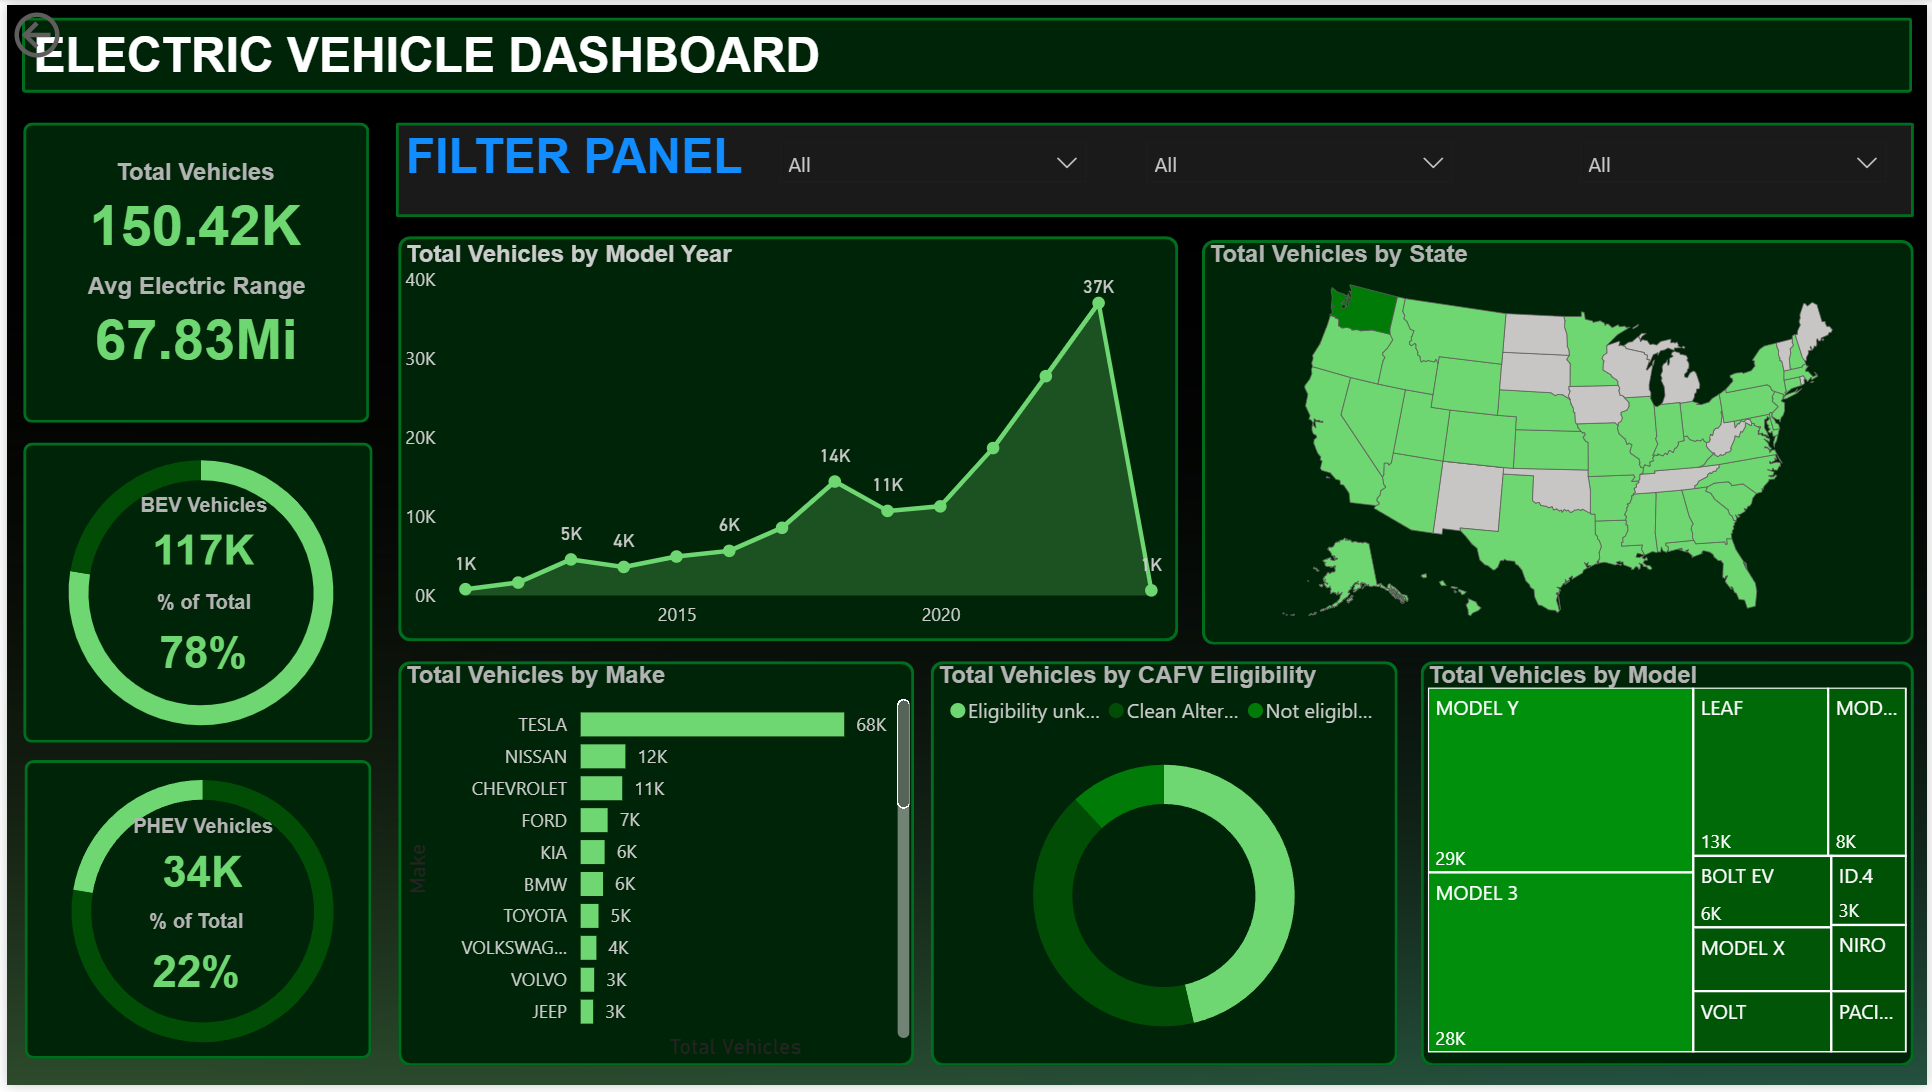

The page's visual inventory and layout, read from the dashboard file:
{"tool":"powerbi","page":{"name":"Page 1","canvas":[1280,720],"ordinal":0},"visuals":[{"type":"shape","box":[9.9,8.2,1260.1,50.2],"z":0},{"type":"textbox","box":[9.9,10.7,539.9,46.1],"z":1000},{"type":"shape","box":[10.9,78.4,230.7,200.3],"z":2000},{"type":"cardVisual","title":"Total Vehicles","fields":{"Data":["Electric_Vehicle_Population_Data.Total Vehicles"]},"box":[19.6,102.3,211.2,76.2],"z":3000},{"type":"actionButton","box":[0,0,100,40],"z":4000},{"type":"cardVisual","title":"Avg Electric Range","fields":{"Data":["Electric_Vehicle_Population_Data.Avg Range"]},"box":[23.9,178.5,204.6,76.2],"z":5000},{"type":"shape","box":[10.9,291.7,232.9,200.3],"z":6000},{"type":"shape","box":[11.6,503.3,231.3,199.3],"z":7000},{"type":"donutChart","fields":{"Category":["Electric_Vehicle_Population_Data.Electric Vehicle Type"],"Y":["Electric_Vehicle_Population_Data.Total Vehicles"]},"box":[0,276.5,259,230.7],"z":8000},{"type":"cardVisual","title":"BEV Vehicles","fields":{"Data":["Electric_Vehicle_Population_Data.BEV Vehicles"]},"box":[64.5,326.1,134.3,64.5],"z":9000},{"type":"cardVisual","title":"% of Total","fields":{"Data":["Electric_Vehicle_Population_Data.% of BEV"]},"box":[45.3,390.6,172.6,71.5],"z":10000},{"type":"donutChart","fields":{"Category":["Electric_Vehicle_Population_Data.Electric Vehicle Type"],"Y":["Electric_Vehicle_Population_Data.Total Vehicles"]},"box":[0,489.8,261.2,228.6],"z":11000},{"type":"cardVisual","title":"PHEV Vehicles","fields":{"Data":["Electric_Vehicle_Population_Data.PHEV Vehicles"]},"box":[63.1,539.9,135,65.3],"z":12000},{"type":"cardVisual","title":"% of Total","fields":{"Data":["Electric_Vehicle_Population_Data.% of PHEV"]},"box":[39.2,603,174.1,71.8],"z":13000},{"type":"shape","box":[259,78.4,1012.2,63.1],"z":14000},{"type":"shape","box":[261.2,154.6,520,270],"z":15000},{"type":"areaChart","fields":{"Category":["Electric_Vehicle_Population_Data.Model Year"],"Y":["Electric_Vehicle_Population_Data.Total Vehicles"]},"box":[261.2,156.7,520.3,267.8],"z":16000},{"type":"shape","box":[796.7,156.7,474.6,269.9],"z":17000},{"type":"shapeMap","fields":{"Category":["Electric_Vehicle_Population_Data.State"],"Value":["Electric_Vehicle_Population_Data.Total Vehicles"]},"box":[796.7,156.7,474.6,267.8],"z":18000},{"type":"shape","box":[261.2,437.6,343.9,269.9],"z":19000},{"type":"barChart","fields":{"Y":["Electric_Vehicle_Population_Data.Total Vehicles"],"Category":["Electric_Vehicle_Population_Data.Make"]},"box":[261.2,437.6,346.1,269.9],"z":20000},{"type":"shape","box":[616.1,437.6,311.3,269.9],"z":21000},{"type":"donutChart","title":"Total Vehicles by CAFV Eligibility","fields":{"Y":["Electric_Vehicle_Population_Data.Total Vehicles"],"Category":["Electric_Vehicle_Population_Data.Clean Alternative Fuel Vehicle (CAFV) Eligibility"]},"box":[616.1,437.6,311.3,269.9],"z":22000},{"type":"shape","box":[942.6,437.6,328.7,269.9],"z":23000},{"type":"treemap","fields":{"Group":["Electric_Vehicle_Population_Data.Model"],"Values":["Electric_Vehicle_Population_Data.Total Vehicles"]},"box":[942.6,437.6,328.7,265.6],"z":24000},{"type":"textbox","box":[261.2,78.4,243.8,63.1],"z":25000},{"type":"slicer","fields":{"Values":["Electric_Vehicle_Population_Data.City"]},"box":[505,80.5,224.2,61],"z":26000},{"type":"slicer","fields":{"Values":["Electric_Vehicle_Population_Data.Electric Utility"]},"box":[748.8,80.5,224.2,61],"z":27000},{"type":"slicer","fields":{"Values":["Electric_Vehicle_Population_Data.Electric Vehicle Type"]},"box":[1038.4,80.5,224.2,61],"z":27001}]}

Visuals, with their boxes in screenshot pixels (x1, y1, x2, y2), scaled from the page's 1280x720 canvas onto the 1932x1092 screenshot:
shape: box=[15, 12, 1917, 89]
textbox: box=[15, 16, 830, 86]
shape: box=[16, 119, 365, 423]
"Total Vehicles" cardVisual: box=[30, 155, 348, 271]
actionButton: box=[0, 0, 151, 61]
"Avg Electric Range" cardVisual: box=[36, 271, 345, 386]
shape: box=[16, 442, 368, 746]
shape: box=[18, 763, 367, 1066]
donutChart - Electric_Vehicle_Population_Data.Electric Vehicle Type x Electric_Vehicle_Population_Data.Total Vehicles: box=[0, 419, 391, 769]
"BEV Vehicles" cardVisual: box=[97, 495, 300, 592]
"% of Total" cardVisual: box=[68, 592, 329, 701]
donutChart - Electric_Vehicle_Population_Data.Electric Vehicle Type x Electric_Vehicle_Population_Data.Total Vehicles: box=[0, 743, 394, 1090]
"PHEV Vehicles" cardVisual: box=[95, 819, 299, 918]
"% of Total" cardVisual: box=[59, 915, 322, 1023]
shape: box=[391, 119, 1919, 215]
shape: box=[394, 234, 1179, 644]
areaChart - Electric_Vehicle_Population_Data.Model Year x Electric_Vehicle_Population_Data.Total Vehicles: box=[394, 238, 1180, 644]
shape: box=[1203, 238, 1919, 647]
shapeMap - Electric_Vehicle_Population_Data.State x Electric_Vehicle_Population_Data.Total Vehicles: box=[1203, 238, 1919, 644]
shape: box=[394, 664, 913, 1073]
barChart - Electric_Vehicle_Population_Data.Total Vehicles x Electric_Vehicle_Population_Data.Make: box=[394, 664, 917, 1073]
shape: box=[930, 664, 1400, 1073]
"Total Vehicles by CAFV Eligibility" donutChart: box=[930, 664, 1400, 1073]
shape: box=[1423, 664, 1919, 1073]
treemap - Electric_Vehicle_Population_Data.Model x Electric_Vehicle_Population_Data.Total Vehicles: box=[1423, 664, 1919, 1067]
textbox: box=[394, 119, 762, 215]
slicer - Electric_Vehicle_Population_Data.City: box=[762, 122, 1101, 215]
slicer - Electric_Vehicle_Population_Data.Electric Utility: box=[1130, 122, 1469, 215]
slicer - Electric_Vehicle_Population_Data.Electric Vehicle Type: box=[1567, 122, 1906, 215]
